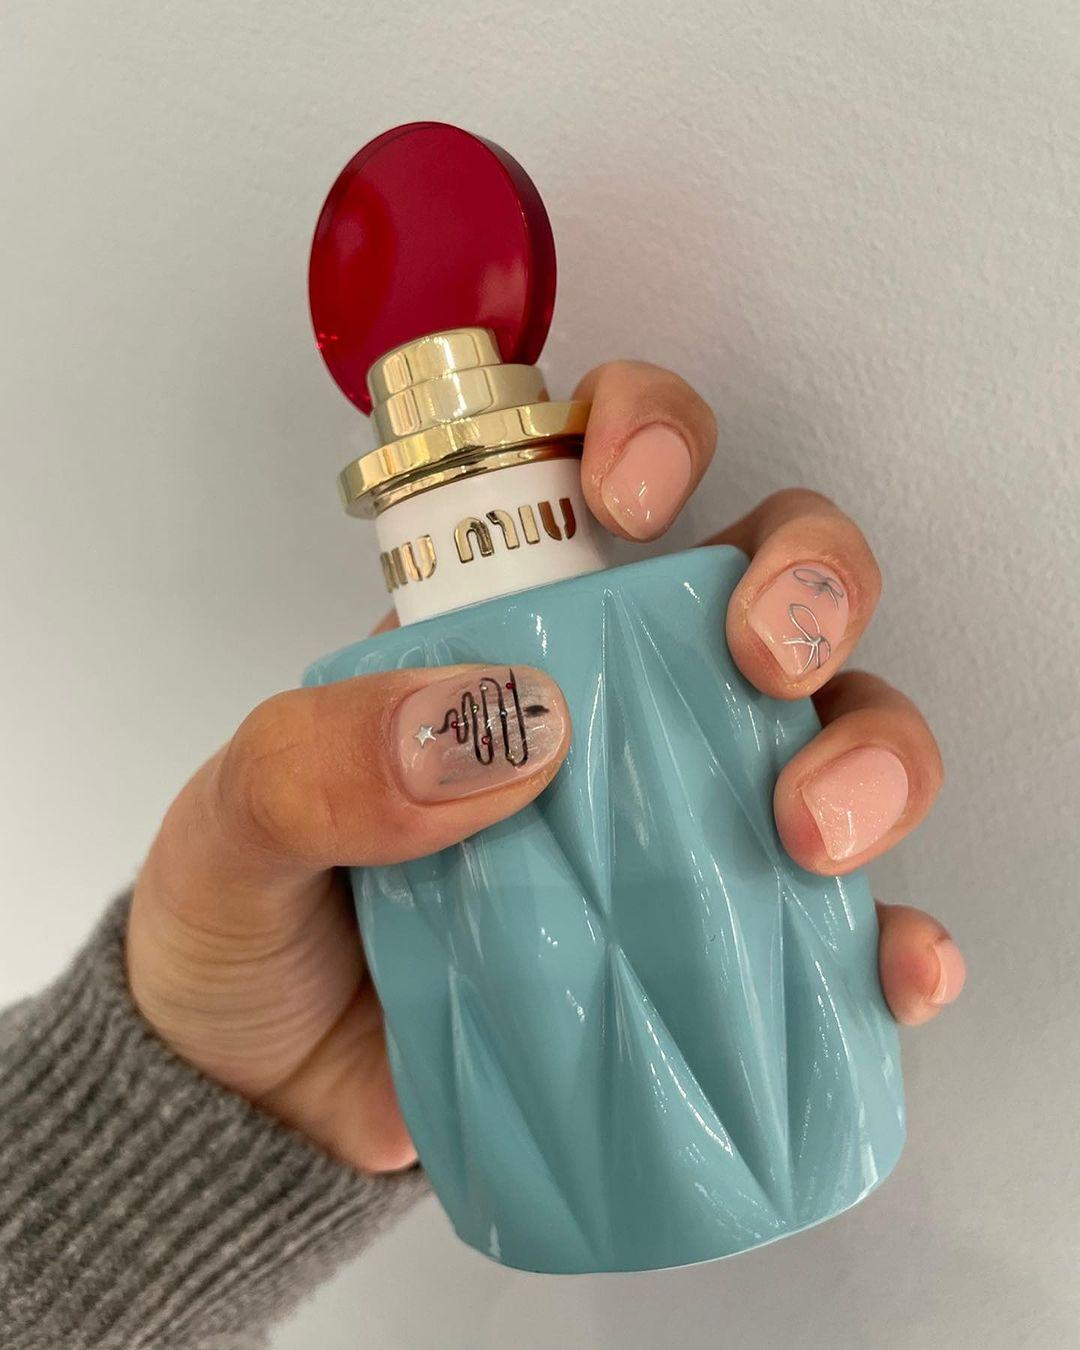nail: (692, 486, 883, 701), (771, 669, 943, 876), (569, 357, 718, 543), (387, 663, 571, 806), (874, 901, 966, 1026)
